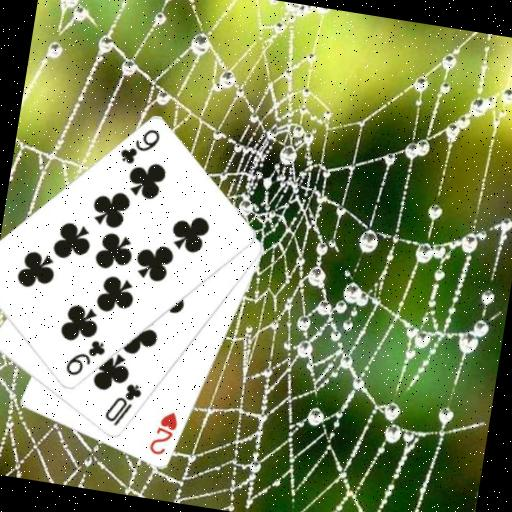10C: (100, 377, 145, 431)
2H: (145, 406, 181, 459)
9C: (115, 121, 163, 171), (61, 333, 108, 382)
